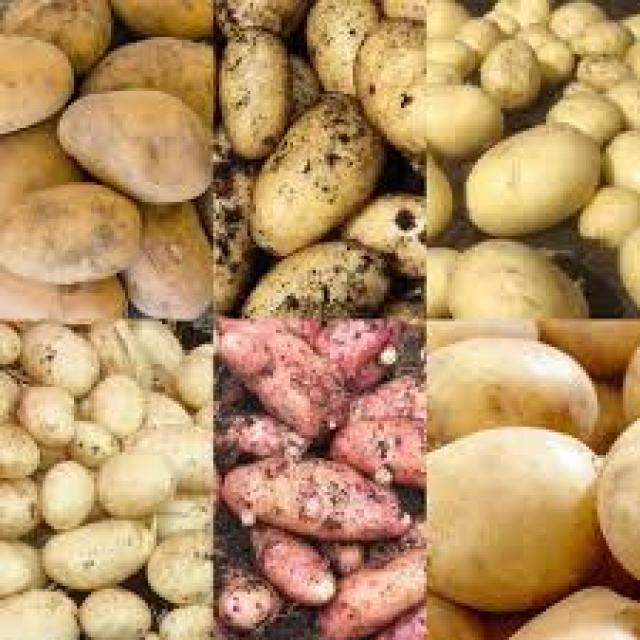Potato: (426, 419, 606, 611), (245, 91, 397, 262), (457, 107, 610, 249), (428, 335, 603, 457), (49, 86, 223, 198), (2, 178, 148, 280), (442, 221, 590, 319), (235, 229, 388, 321), (345, 12, 426, 157), (216, 19, 289, 166), (36, 509, 155, 596), (0, 17, 80, 137), (426, 86, 516, 162), (17, 317, 98, 398), (472, 23, 550, 105), (30, 453, 99, 534), (101, 443, 171, 522), (82, 362, 150, 442), (140, 539, 215, 610), (19, 379, 82, 456), (547, 83, 625, 145), (63, 418, 122, 466)
